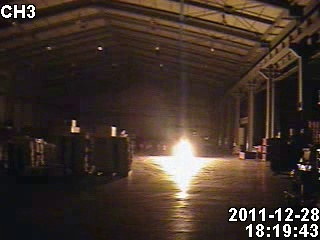fire: (171, 140, 197, 175)
